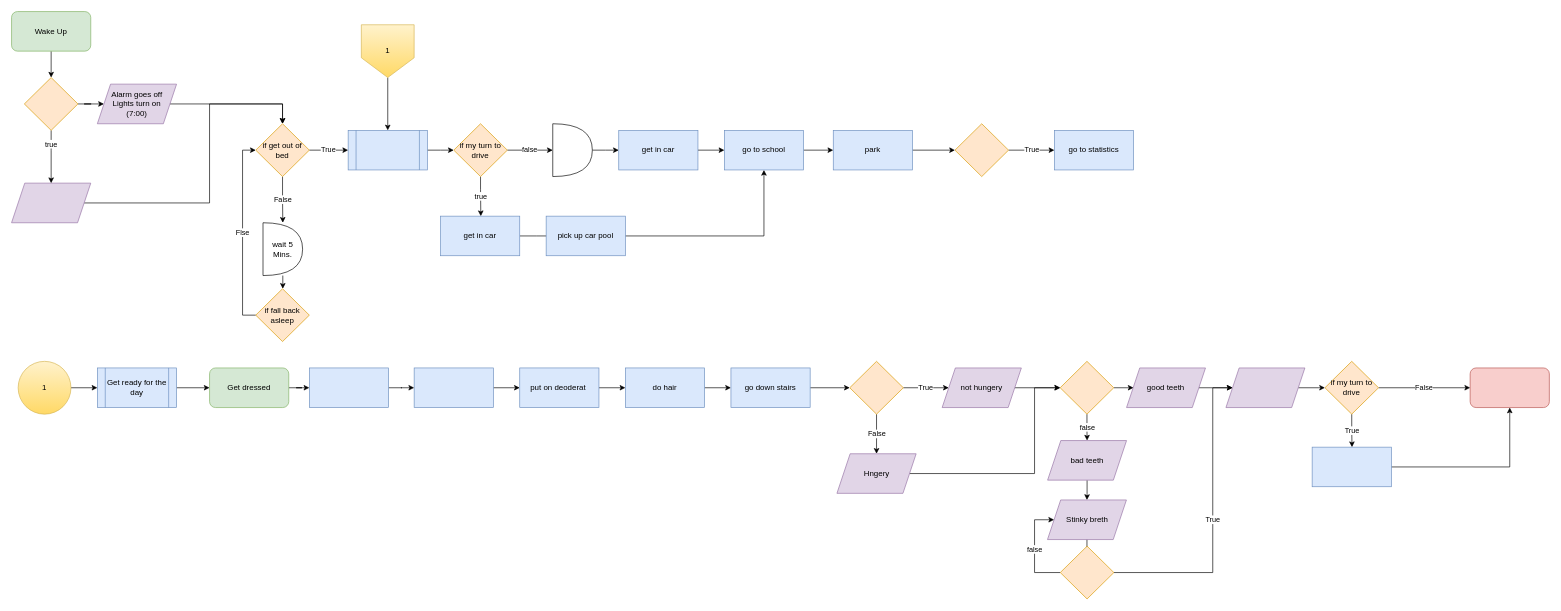
The diagram is 1561 pixels wide and 611 high, and some of its shapes have lost their labels. Each missing label, with the centre of its shape:
"Alarm goes off Lights turn on (8:00)" belongs at point 51,202.
"Get ready for day" belongs at point 387,150.
"go to the bathroom" belongs at point 349,387.
"good breth" belongs at point 1265,387.
"Grab back" belongs at point 1509,387.
"grab keys" belongs at point 1351,466.
"if brush teeth" belongs at point 1086,387.
"if chew gum" belongs at point 1087,572.
"if eat" belongs at point 876,387.
"if friday" belongs at point 51,103.
"if Monday - Thursday" belongs at point 981,150.
"put in contacts" belongs at point 453,387.
"wait for car pool" belongs at point 572,150.
